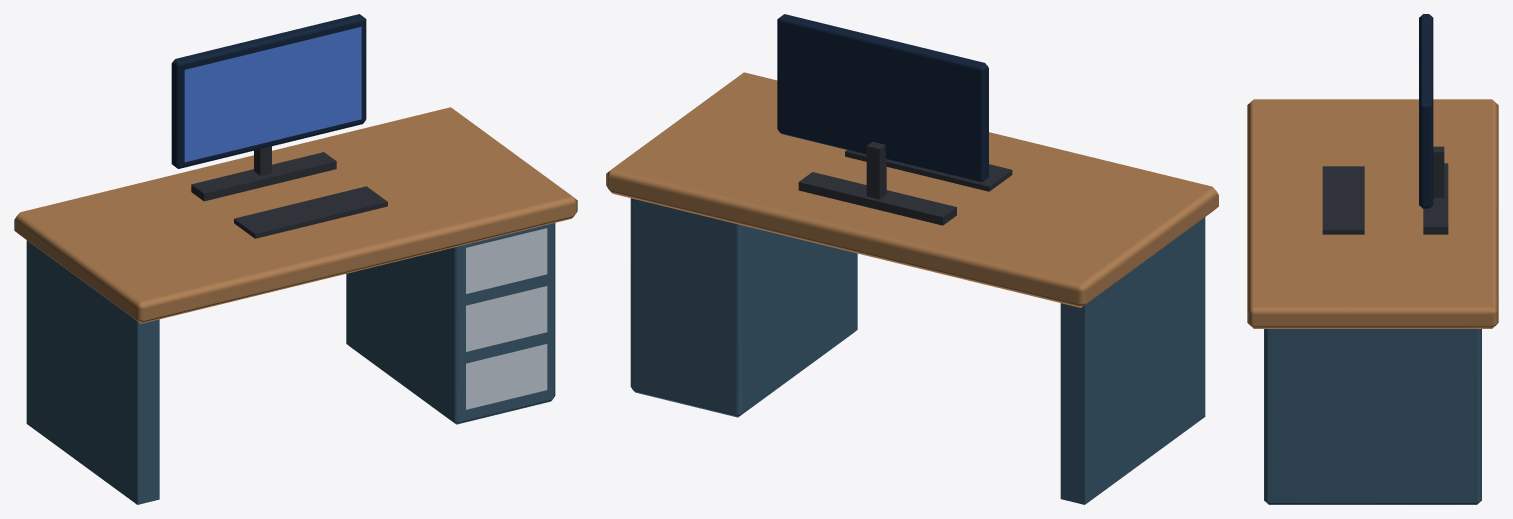
The model's file is CM_Interior_EmployeeDesk.fbx.
3 renders of one model, left to right at view 1: azimuth 30°, elevation 25°; view 2: azimuth 150°, elevation 25°; view 3: azimuth 270°, elevation 25°, orthographic. The views are drawn at different scales.
Parts seen in each view (by area): view 1: Body; view 2: Body; view 3: Body.
Part boxes in pixels (left/top/right/bottom): Body: left=14, top=14, right=577, bottom=504; Body: left=606, top=14, right=1218, bottom=504; Body: left=1247, top=14, right=1498, bottom=504.
Bounding box in the file's own units: 6 × 3 × 4.6.
Materials: 1 (1 with a texture image).
